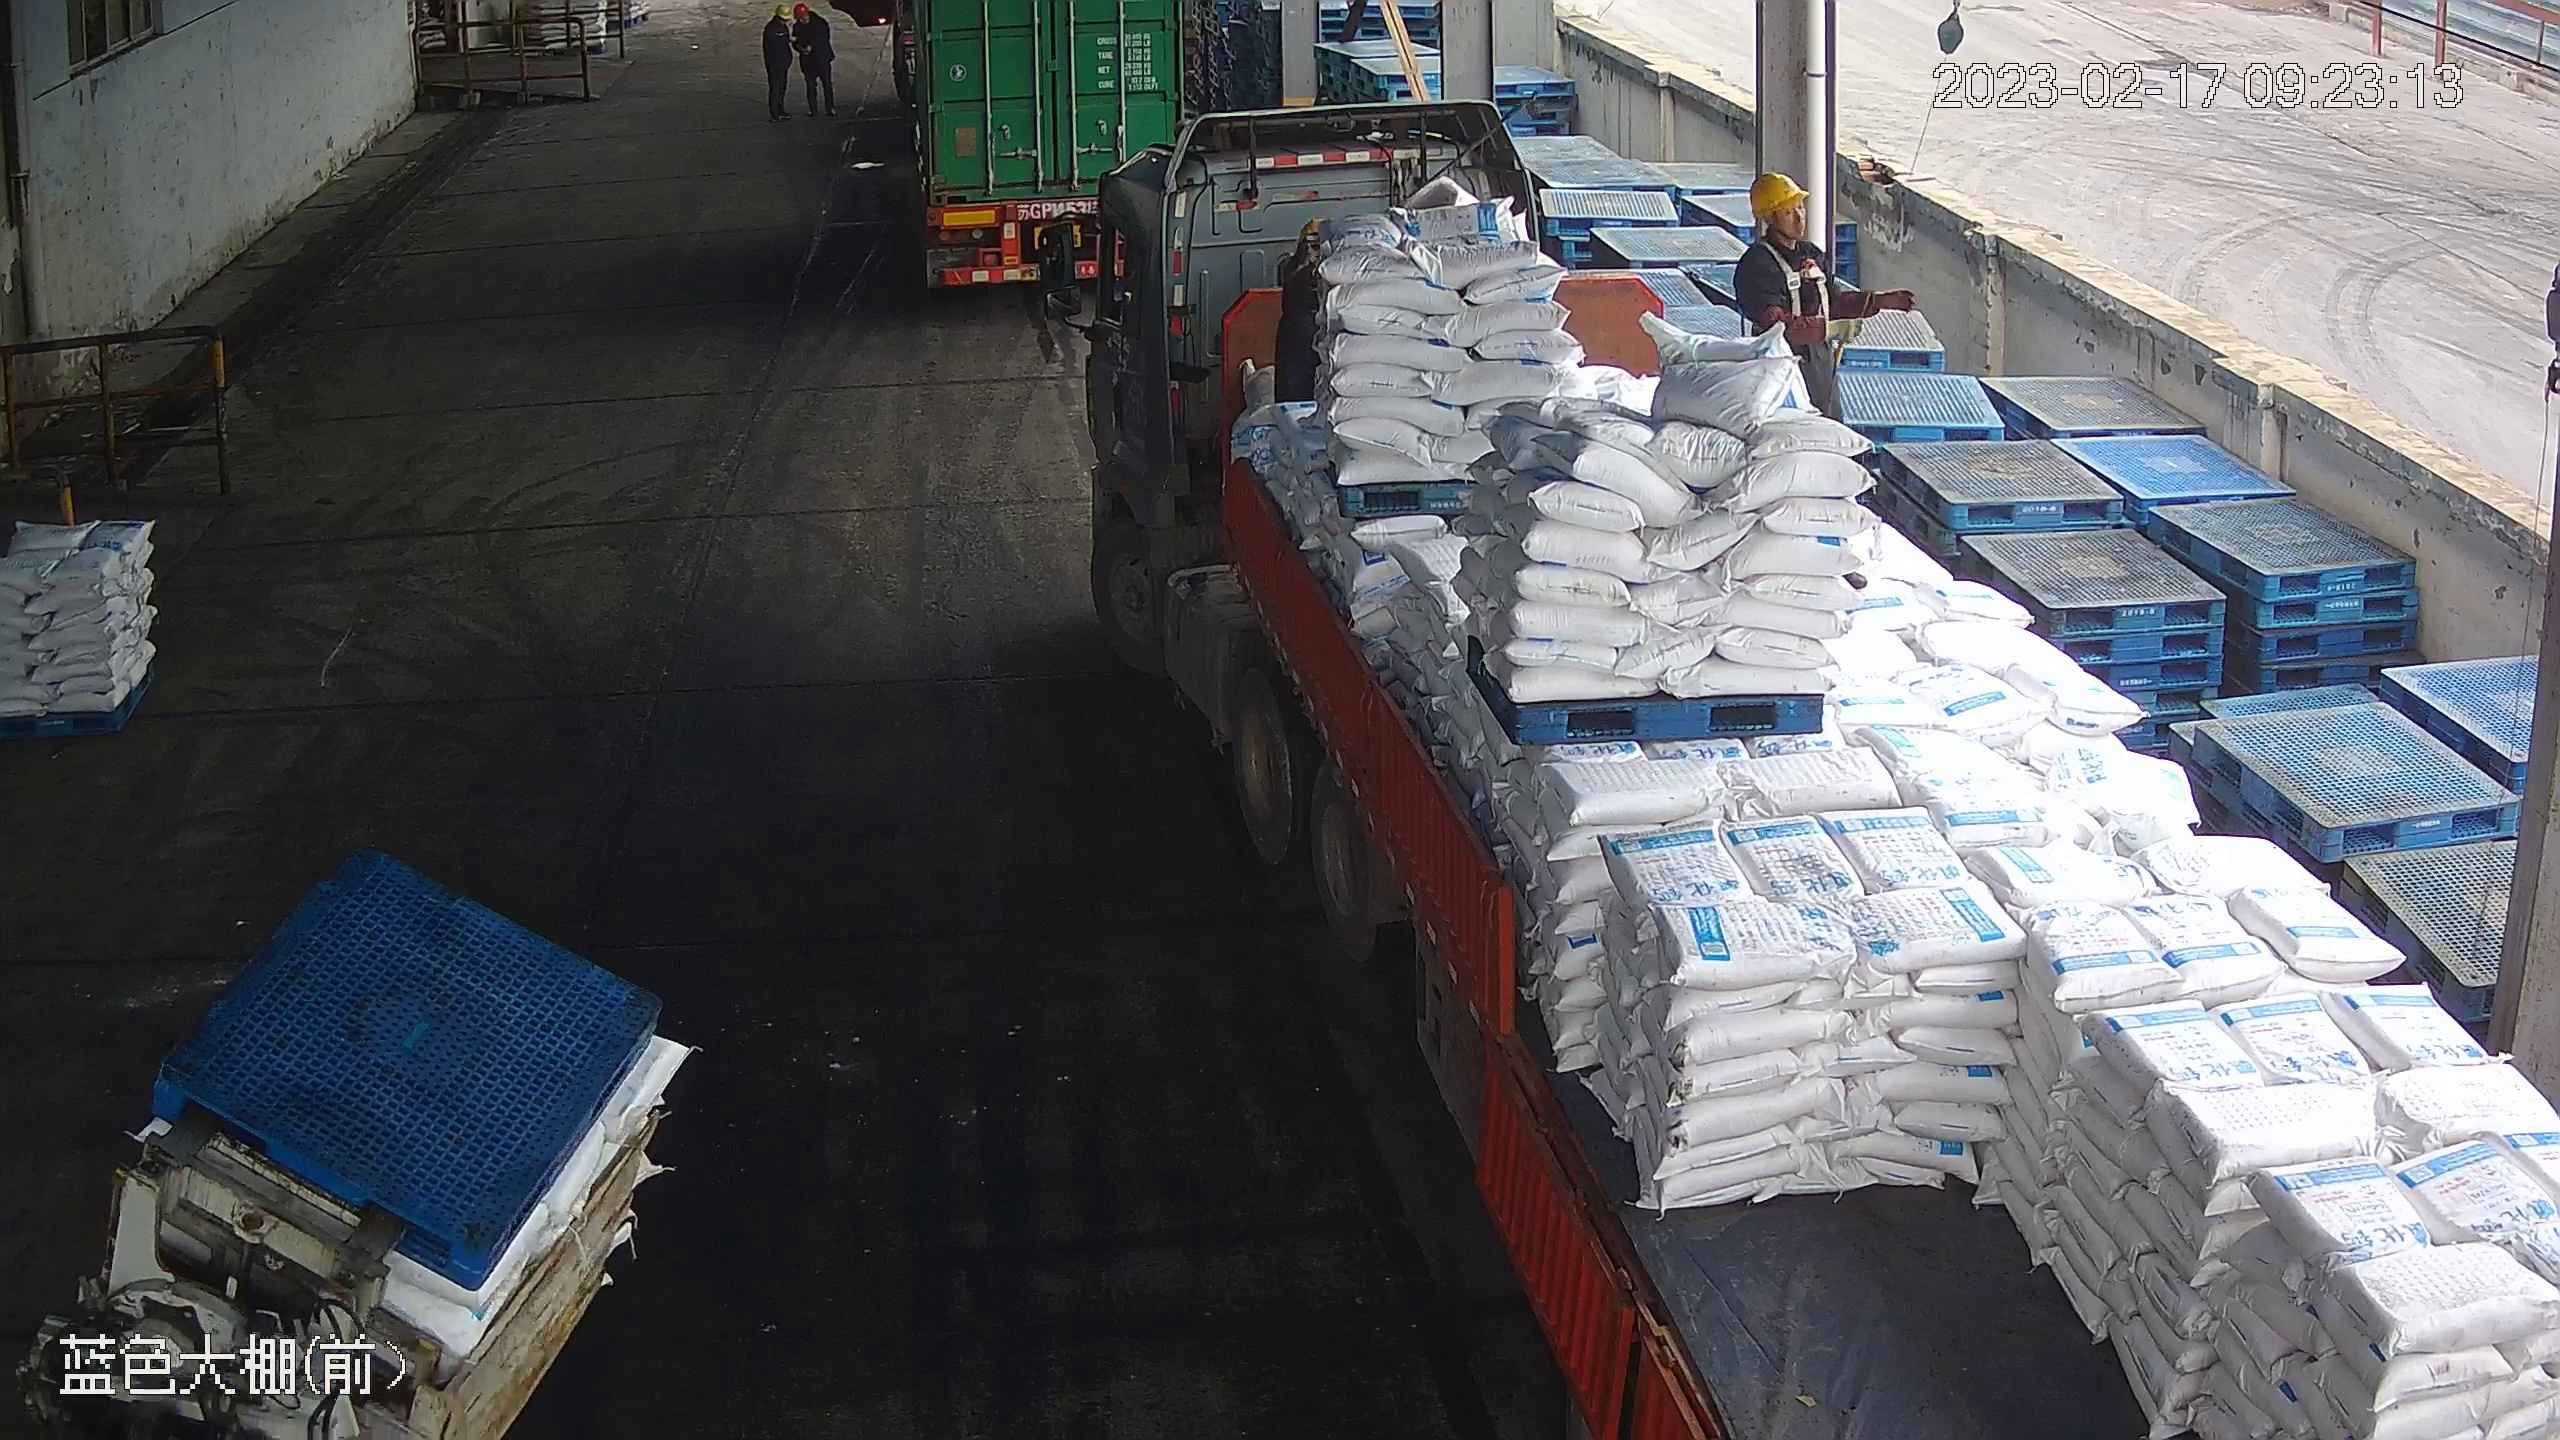belt: (1761, 240, 1827, 320)
head: (1739, 170, 1830, 277), (1274, 215, 1328, 282)
helmet: (1744, 168, 1806, 213)
people: (1736, 170, 1910, 430), (1271, 214, 1338, 407)
truck: (1056, 139, 2554, 1440), (894, 1, 1171, 291)
